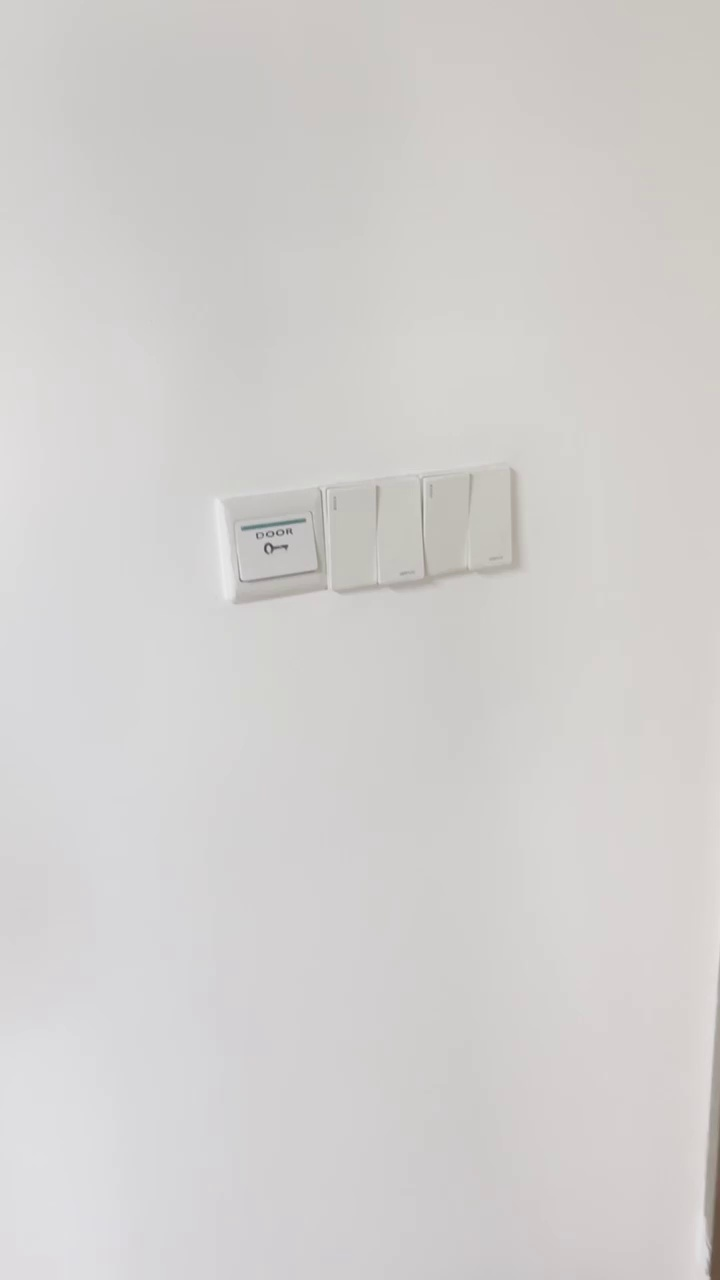button: (321, 469, 424, 598), (417, 462, 514, 576)
